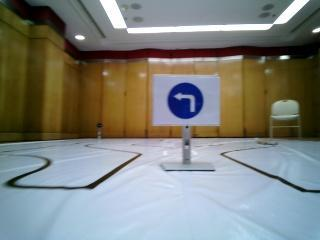left: (153, 77, 218, 126)
